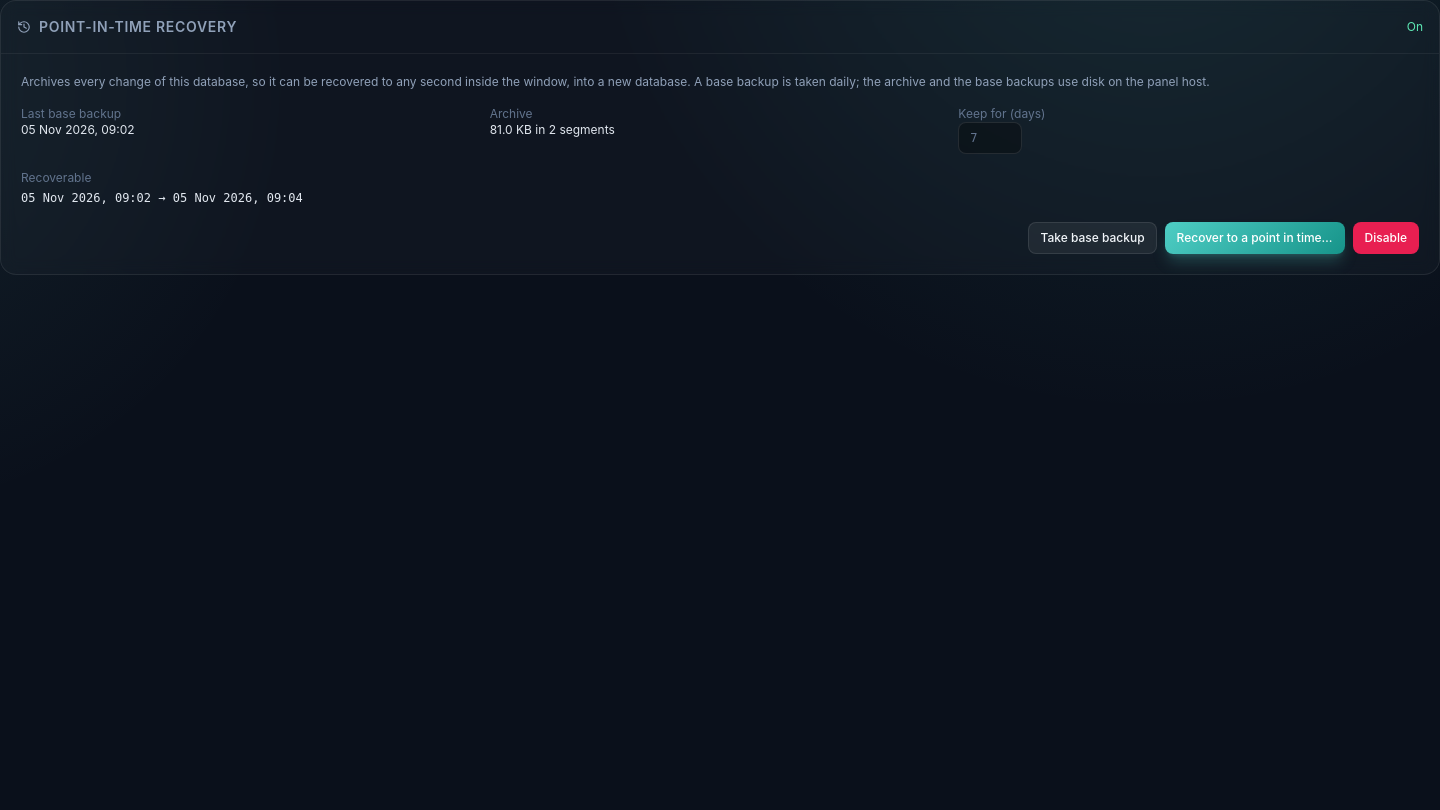
it: PitrCard › reports a base backup that could not start
Step 1. Click the button "Take base backup" → (1092, 238), box 1028,222 -> 1156,254
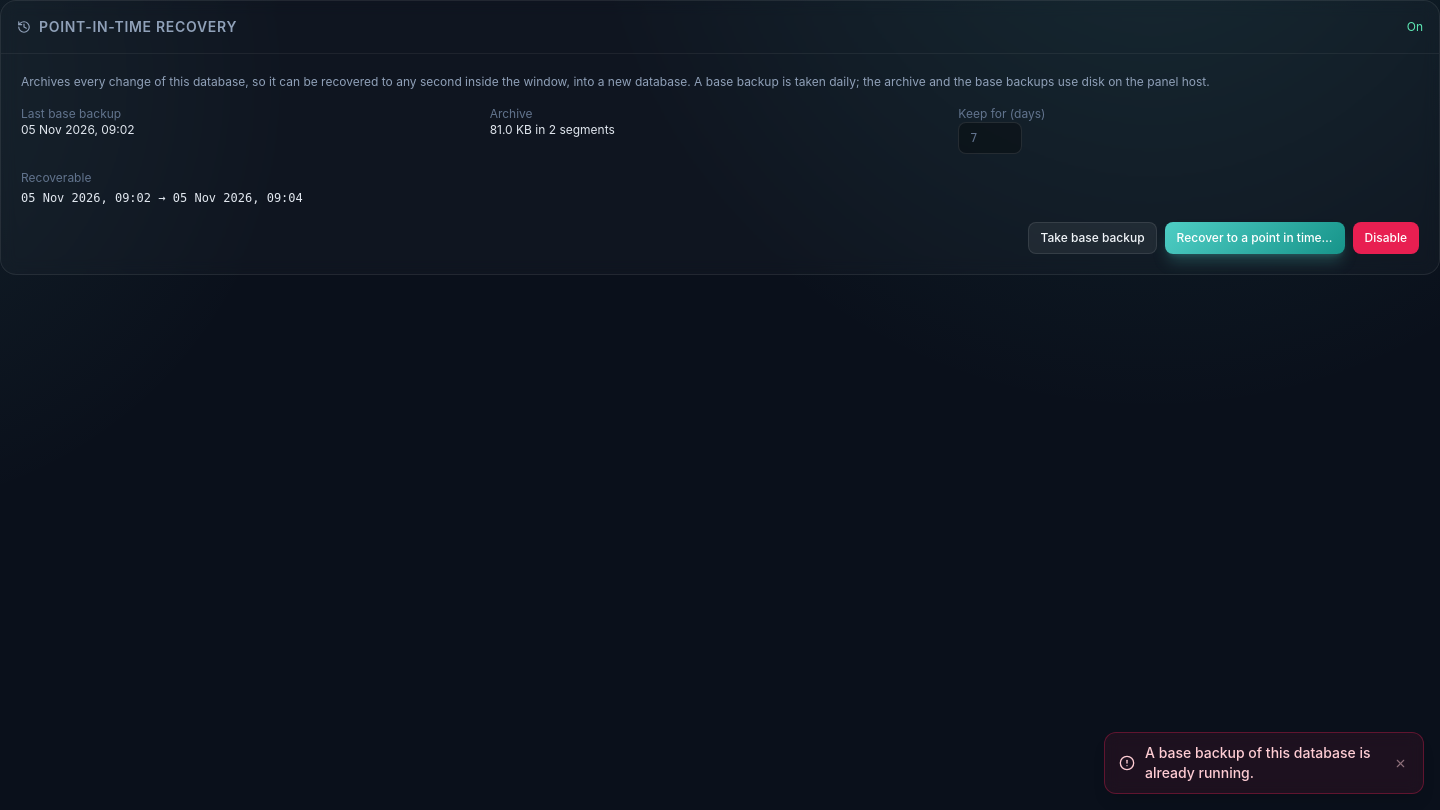
Expected: the text "A base backup of this database is already running." is shown, 1145,743 -> 1382,783
